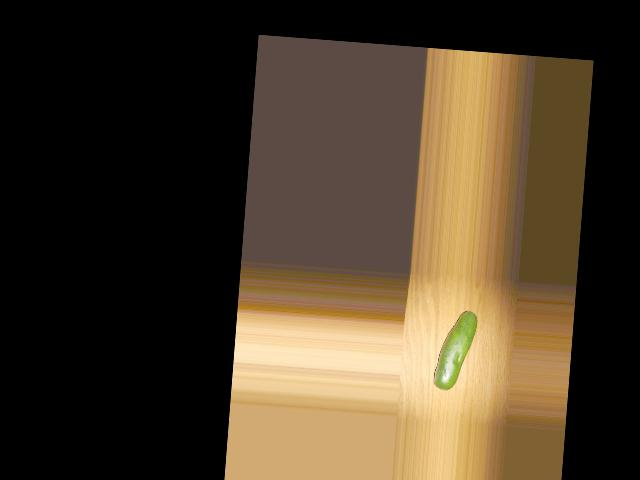cucumber: (432, 308, 477, 391)
